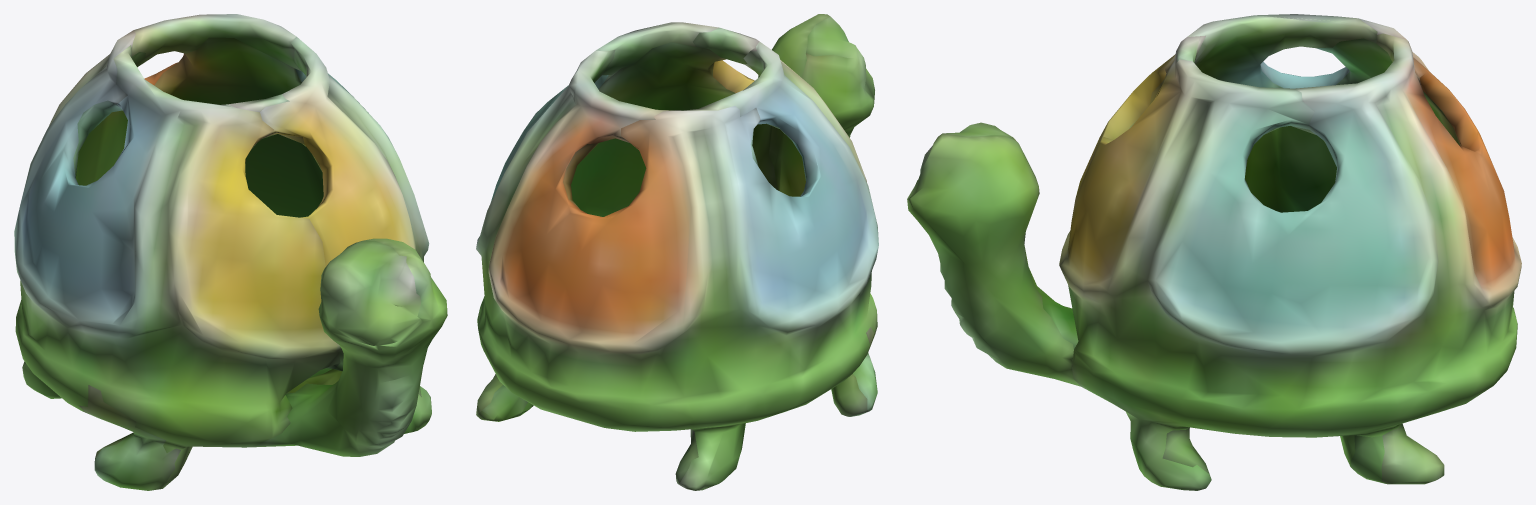
The model's file is Circo_Fish_Toothbrush_Holder_14995988-medium.glb.
The picture shows the model from 3 angles, left to right: view 1: azimuth 30°, elevation 25°; view 2: azimuth 150°, elevation 25°; view 3: azimuth 270°, elevation 25°; orthographic projection. The views are drawn at different scales.
Visible parts, largest first — view 1: Circo_Fish_Toothbrush_Holder_14995988; view 2: Circo_Fish_Toothbrush_Holder_14995988; view 3: Circo_Fish_Toothbrush_Holder_14995988.
Boxes of the visible parts, x1=… form: Circo_Fish_Toothbrush_Holder_14995988: x1=14, y1=14, x2=447, y2=490; Circo_Fish_Toothbrush_Holder_14995988: x1=476, y1=14, x2=878, y2=490; Circo_Fish_Toothbrush_Holder_14995988: x1=907, y1=14, x2=1521, y2=490.
Size of the model in its own units: 0.1058 by 0.1016 by 0.1547.
Materials: 1 (1 with a texture image).
